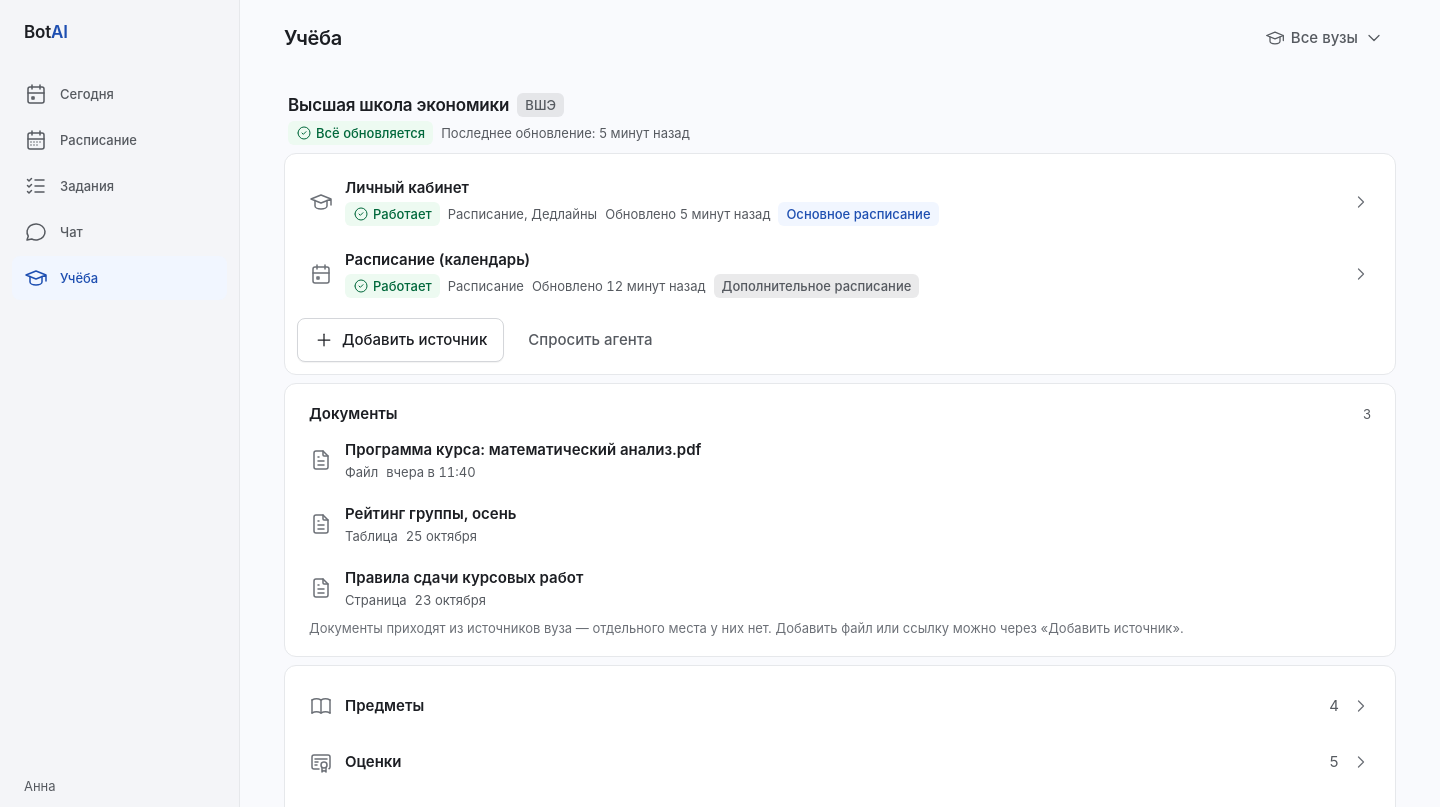
Test: карточка источника › «Сделать основным для расписания» меняет порядок источников вида
Click the button with aria-label "Расписание (календарь):" at x=840, y=274, box left=297, top=238, right=1383, bottom=310
(page scrolled)
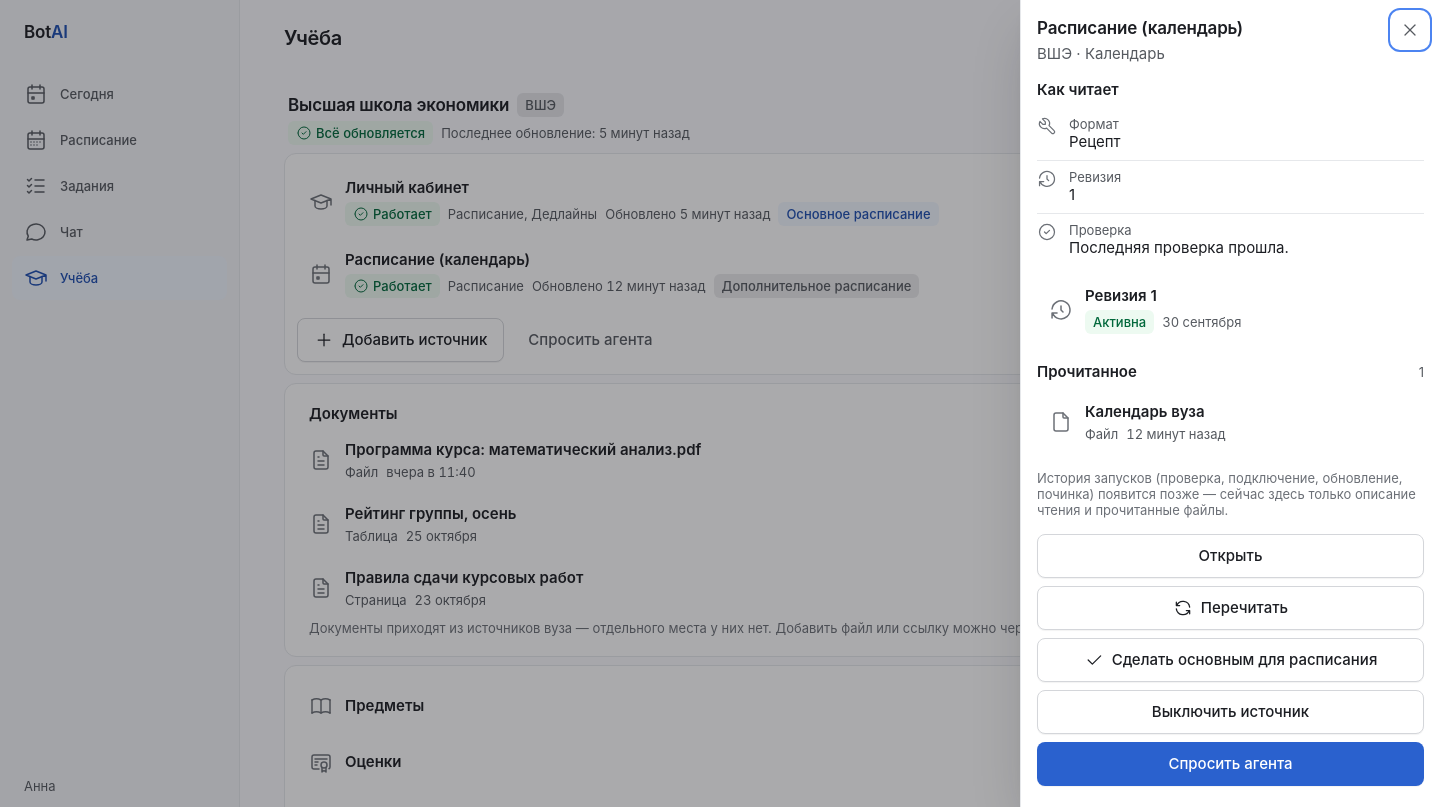
Click the button "Сделать основным для расписания" at x=1230, y=660, box left=1037, top=638, right=1424, bottom=682
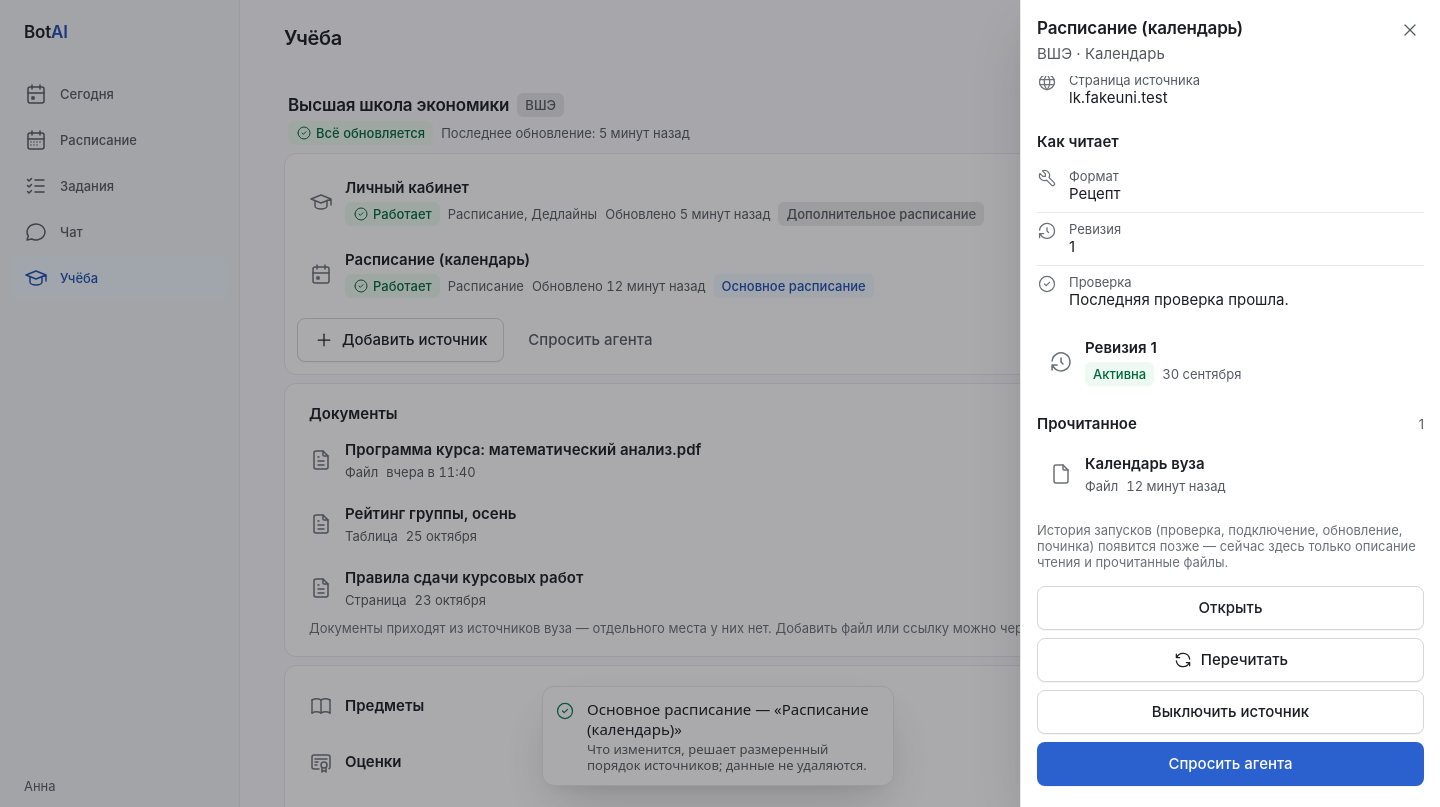
Expected: the text "Основное расписание — «Расписание (календарь)»" is shown, left=587, top=699, right=881, bottom=739
